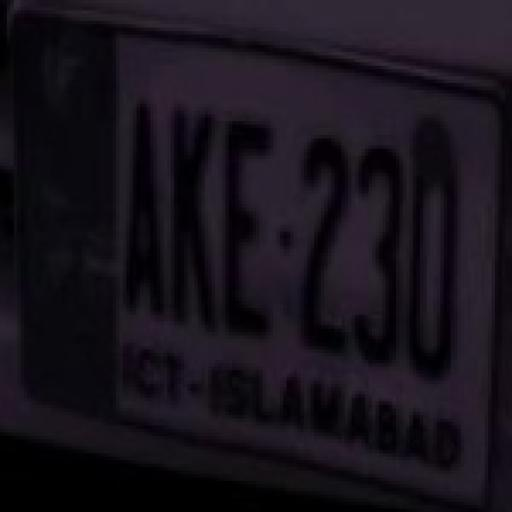0: (411, 151, 460, 382)
2: (297, 131, 354, 364)
3: (360, 116, 406, 390)
A: (125, 95, 171, 327)
E: (224, 112, 271, 343)
K: (171, 103, 222, 338)
